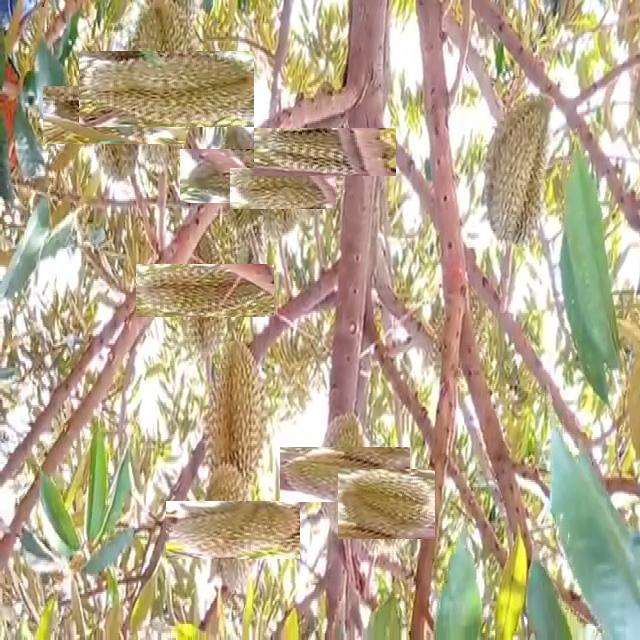durian: (104, 26, 229, 152), (485, 88, 558, 253), (64, 64, 164, 166), (207, 333, 267, 494), (185, 482, 282, 578), (157, 242, 253, 338), (278, 105, 373, 200), (298, 428, 391, 521), (195, 132, 282, 219), (344, 462, 428, 546), (246, 152, 320, 226)
